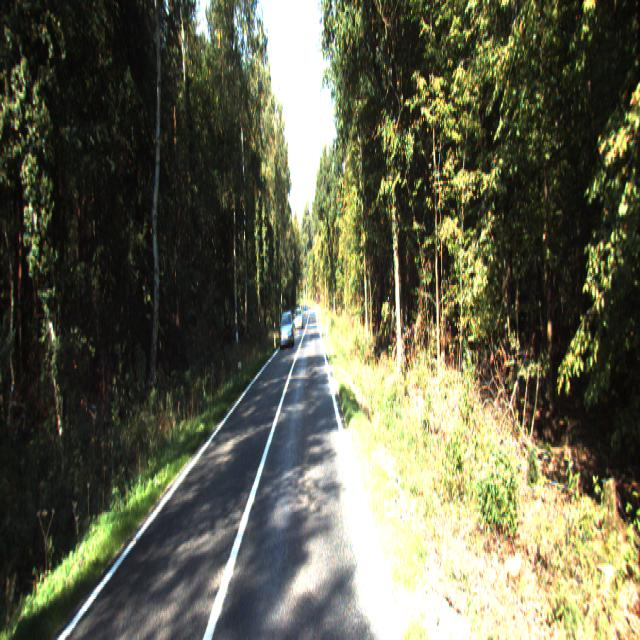Car: (278, 310, 294, 350)
